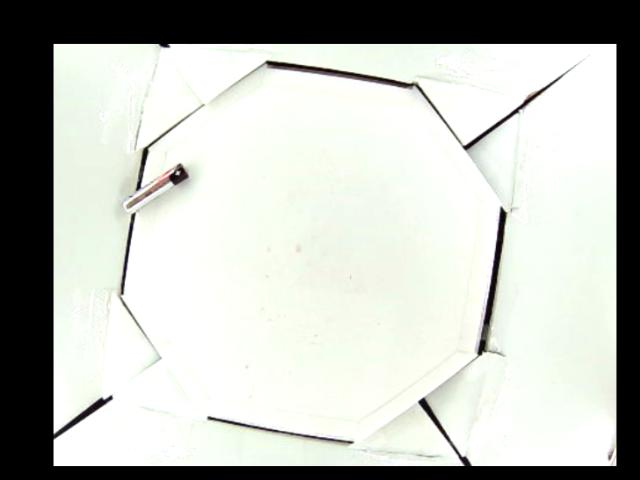Battery: (123, 160, 191, 213)
